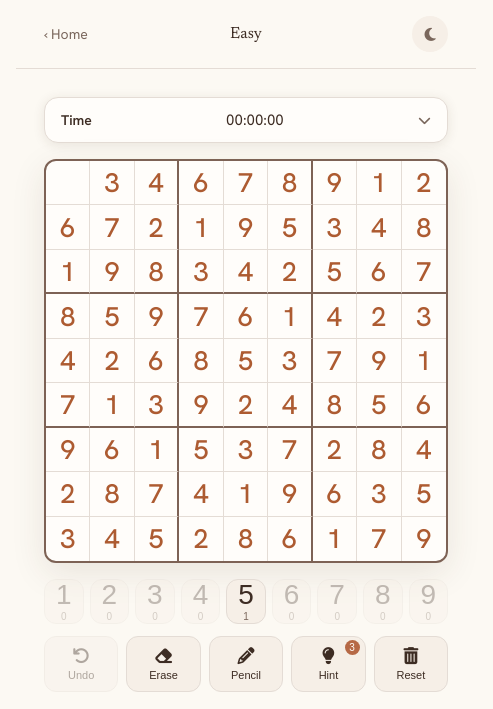
Scenario: GamePage - victory › shows victory overlay when puzzle is solved
Expected: the table is shown, [44,159,448,563]
Select cell (0,0)
Click the button named "Row 1, column 1" at [68, 183], box [46,161,90,205]
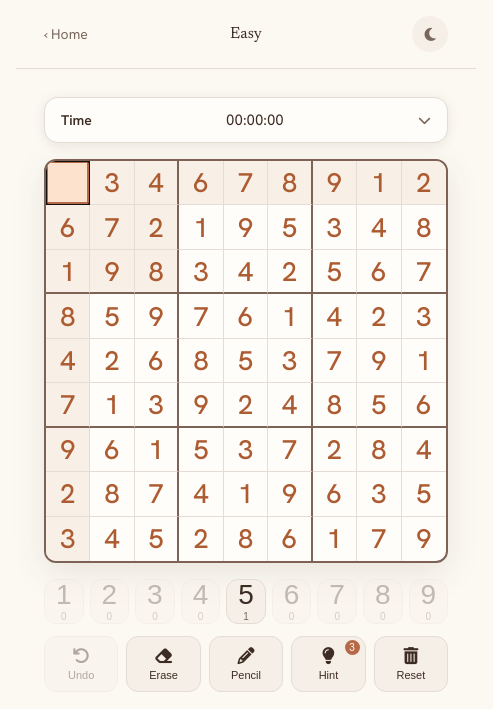
Enter the missing value (5)
Click the button "5 1" at [246, 602], box [226,579,266,624]
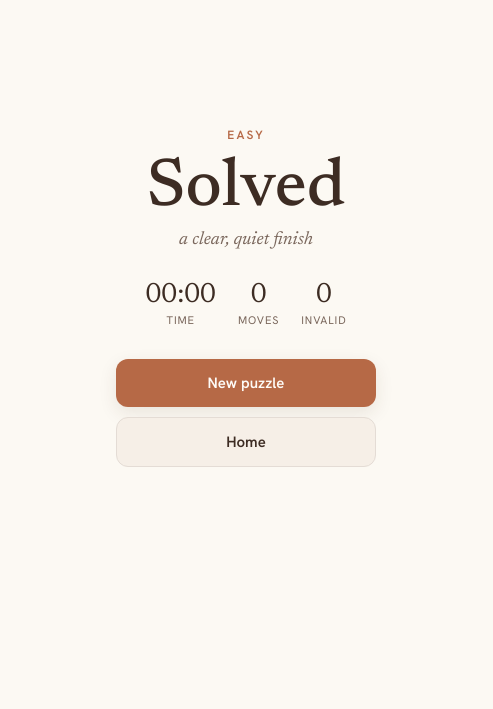
Now the heading "Solved" is shown, box [147,155,345,223]
